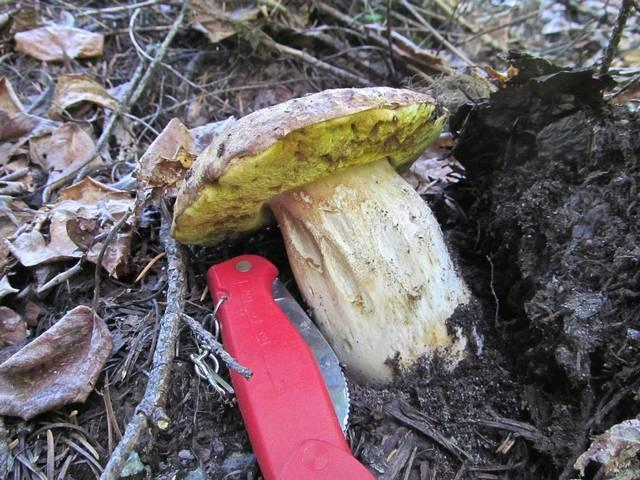edible_mushroom: (169, 84, 475, 388)
